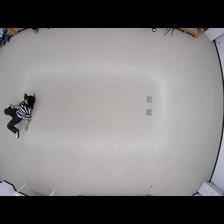fall: (4, 93, 36, 138)
